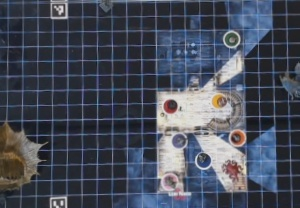blue: (192, 148, 211, 171)
green: (220, 29, 240, 48)
orange: (227, 128, 249, 148)
pink: (160, 172, 180, 191)
red: (161, 97, 179, 115)
violet: (169, 131, 187, 149)
yellow: (209, 91, 227, 109)
